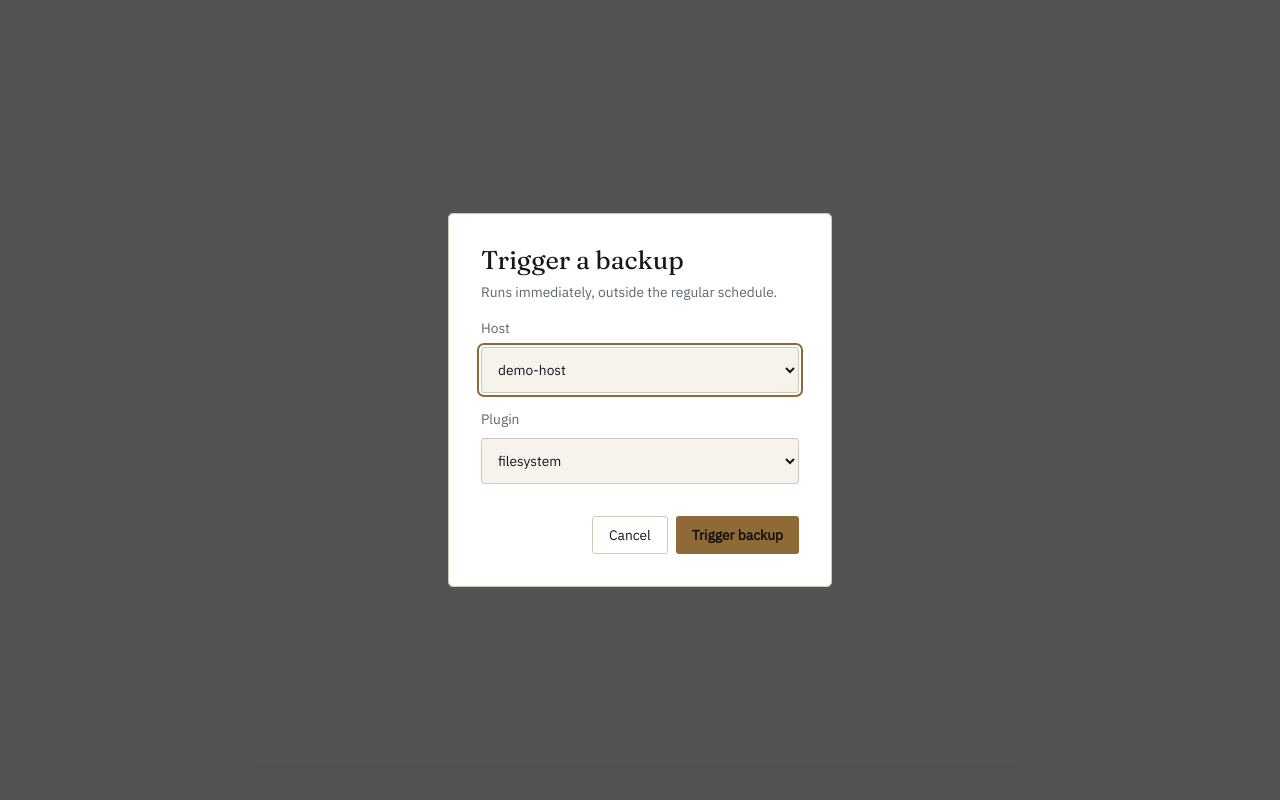
Test: TriggerBackupModal › shows the queued job id on a successful submit
Step 1. Click the button "Trigger backup" → (737, 535), box [676,516,799,554]
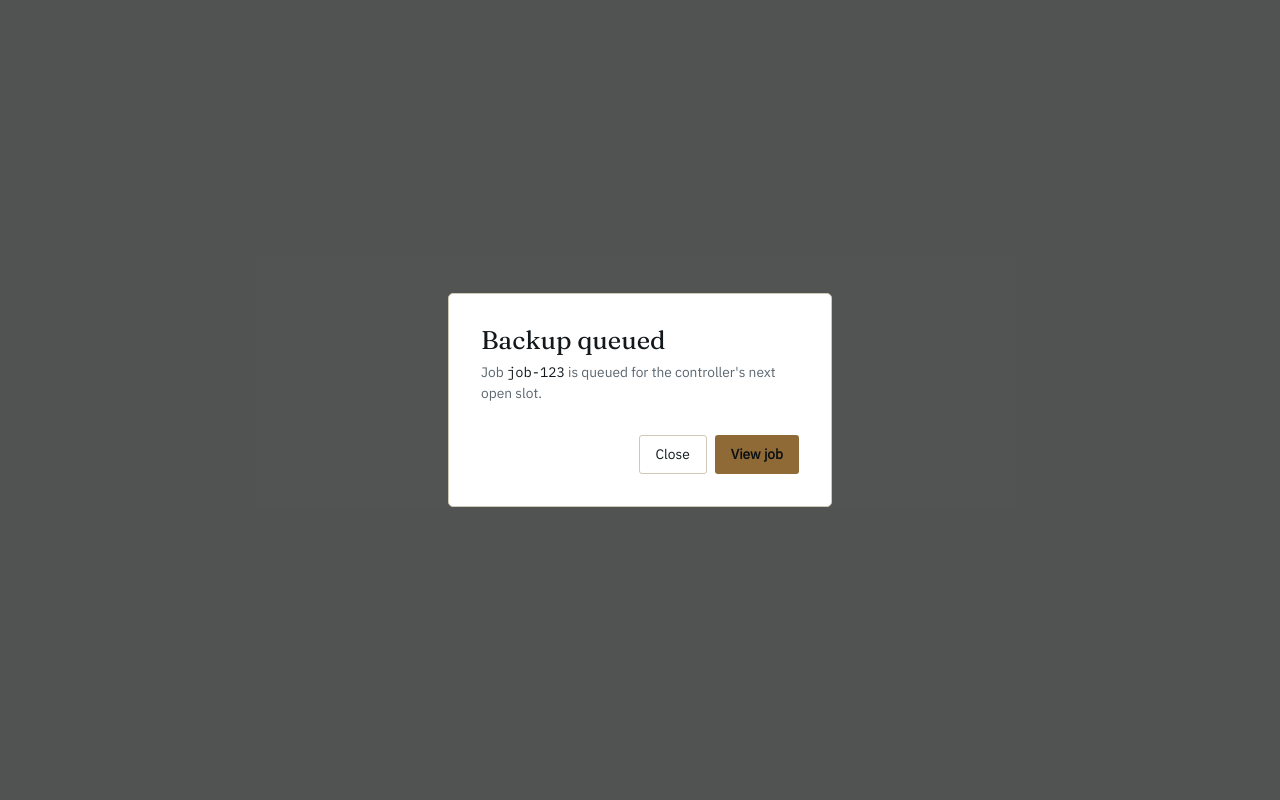
Now the text "job-123" is shown, box [507,363,565,381]
Now the heading "Backup queued" is shown, box [481,324,666,356]
